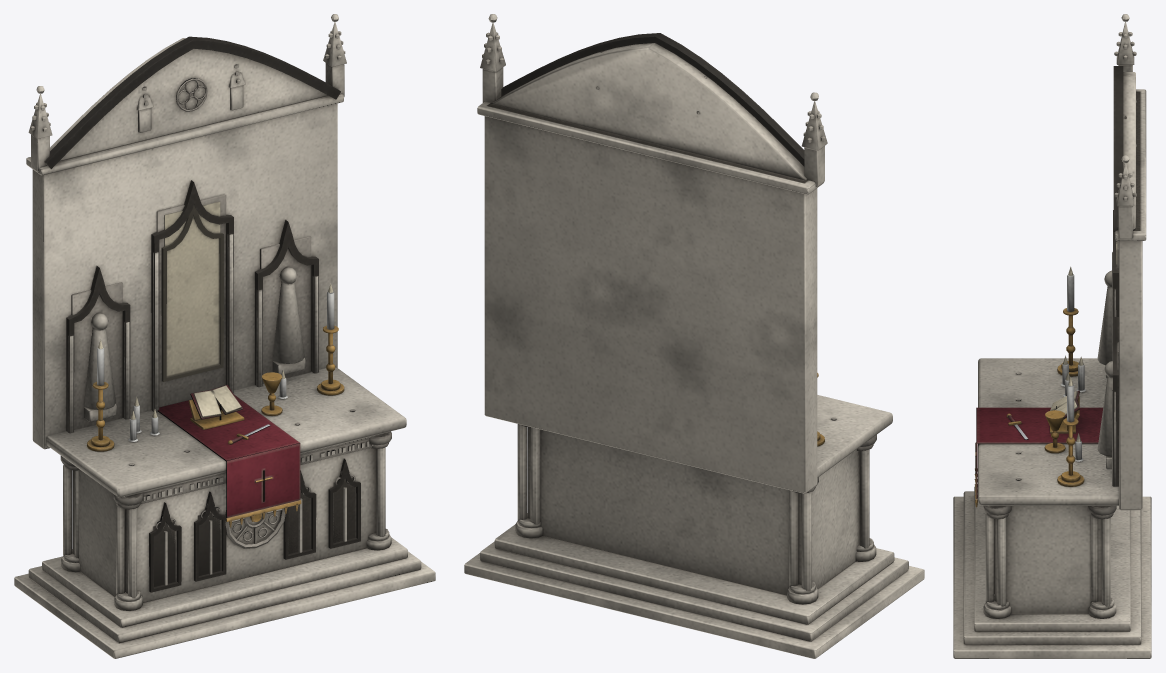
The model's file is Altar.fbx.
3 renders of one model, left to right at view 1: azimuth 30°, elevation 25°; view 2: azimuth 150°, elevation 25°; view 3: azimuth 270°, elevation 25°, orthographic. The views are drawn at different scales.
Visible parts, largest first — view 1: Altar_Reredos, Altar_Altar, Altar_Glow, Altar_Items; view 2: Altar_Reredos, Altar_Altar; view 3: Altar_Altar, Altar_Reredos, Altar_Items.
Part boxes in pixels (<box>): Altar_Reredos: <box>26,14,346,449</box>; Altar_Altar: <box>14,366,435,658</box>; Altar_Glow: <box>98,201,332,419</box>; Altar_Items: <box>87,291,344,451</box>; Altar_Reredos: <box>477,14,827,493</box>; Altar_Altar: <box>464,395,924,658</box>; Altar_Altar: <box>953,358,1151,658</box>; Altar_Reredos: <box>1097,14,1146,510</box>; Altar_Items: <box>1006,274,1085,486</box>.
Size of the model in its own units: 700 by 1082 by 380.
